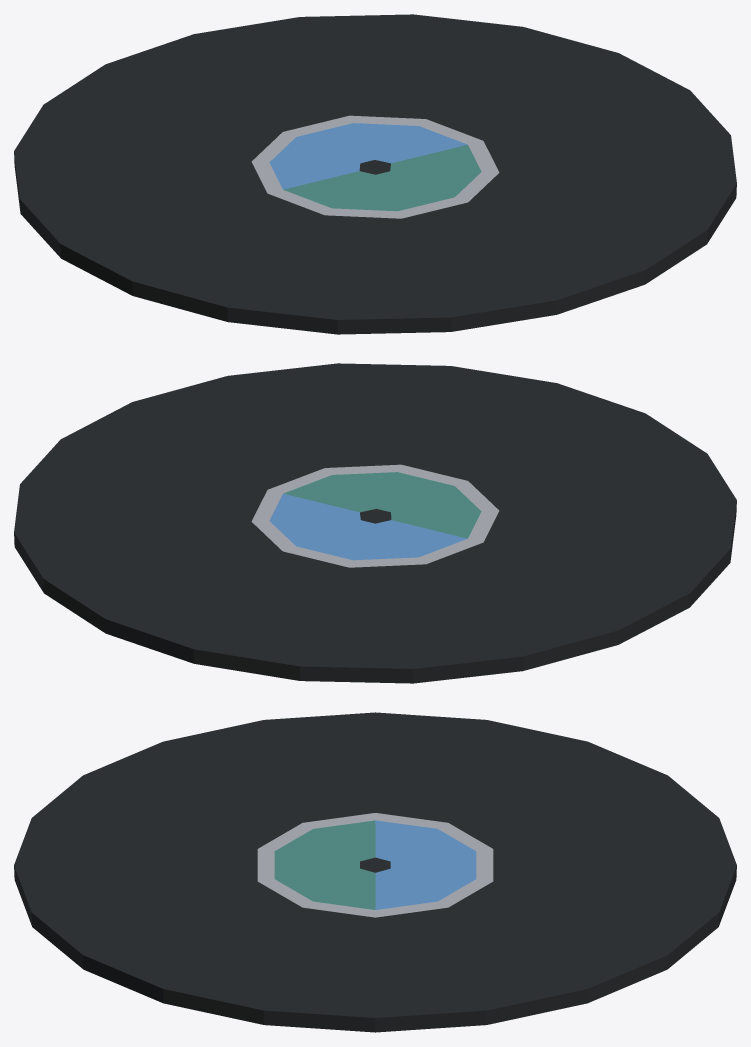
File: SM_Prop_Music_Record_01.obj
3 views of the same model, one above another, from view 1: azimuth 30°, elevation 25°; view 2: azimuth 150°, elevation 25°; view 3: azimuth 270°, elevation 25° (orthographic).
Visible parts, largest first — view 1: SM_Prop_Music_Record_01_0; view 2: SM_Prop_Music_Record_01_0; view 3: SM_Prop_Music_Record_01_0.
Boxes of the visible parts, left/top/right/bottom form: SM_Prop_Music_Record_01_0: left=14, top=14, right=736, bottom=334; SM_Prop_Music_Record_01_0: left=14, top=363, right=736, bottom=683; SM_Prop_Music_Record_01_0: left=14, top=712, right=736, bottom=1032.
Size of the model in its own units: 0.504 by 0.0114 by 0.504.
1 material, 1 textured.
